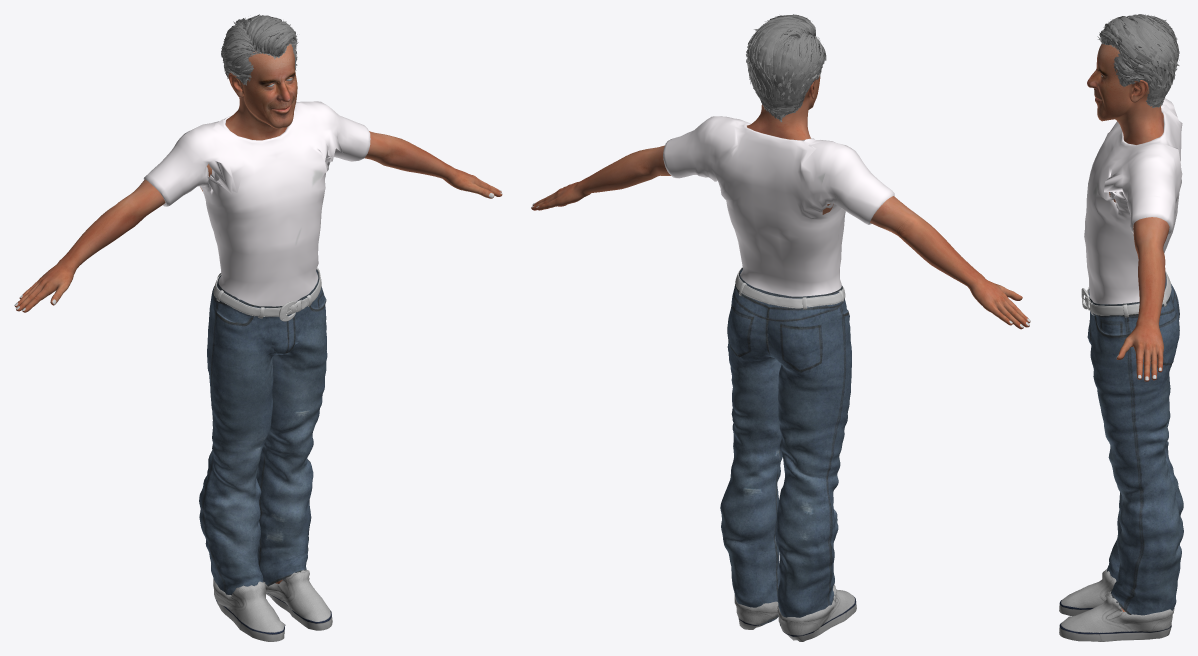
Rendered from epstein.fbx.
3 renders of one model, left to right at view 1: azimuth 30°, elevation 25°; view 2: azimuth 150°, elevation 25°; view 3: azimuth 270°, elevation 25°, orthographic. The views are drawn at different scales.
Visible parts, largest first — view 1: MC_Jeans_24799_Shape, TShirt, CC_Base_Body, Canvas_shoes, MaleHair_classicSideParted_geo; view 2: MC_Jeans_24799_Shape, TShirt, CC_Base_Body, MaleHair_classicSideParted_geo, Canvas_shoes; view 3: MC_Jeans_24799_Shape, TShirt, CC_Base_Body, MaleHair_classicSideParted_geo, Canvas_shoes.
Part boxes in pixels (x1,y1,x2,y2): MC_Jeans_24799_Shape: [199, 267, 327, 595]; TShirt: [143, 101, 370, 306]; CC_Base_Body: [14, 44, 502, 583]; Canvas_shoes: [213, 569, 332, 641]; MaleHair_classicSideParted_geo: [221, 14, 298, 85]; MC_Jeans_24799_Shape: [720, 267, 851, 625]; TShirt: [663, 116, 894, 296]; CC_Base_Body: [531, 75, 1030, 329]; MaleHair_classicSideParted_geo: [746, 14, 826, 122]; Canvas_shoes: [734, 584, 856, 641]; MC_Jeans_24799_Shape: [1081, 271, 1183, 615]; TShirt: [1084, 98, 1182, 304]; CC_Base_Body: [1087, 44, 1169, 611]; MaleHair_classicSideParted_geo: [1097, 14, 1179, 107]; Canvas_shoes: [1059, 569, 1174, 641].
Bounding box in the file's own units: 164 × 191 × 35.57.
